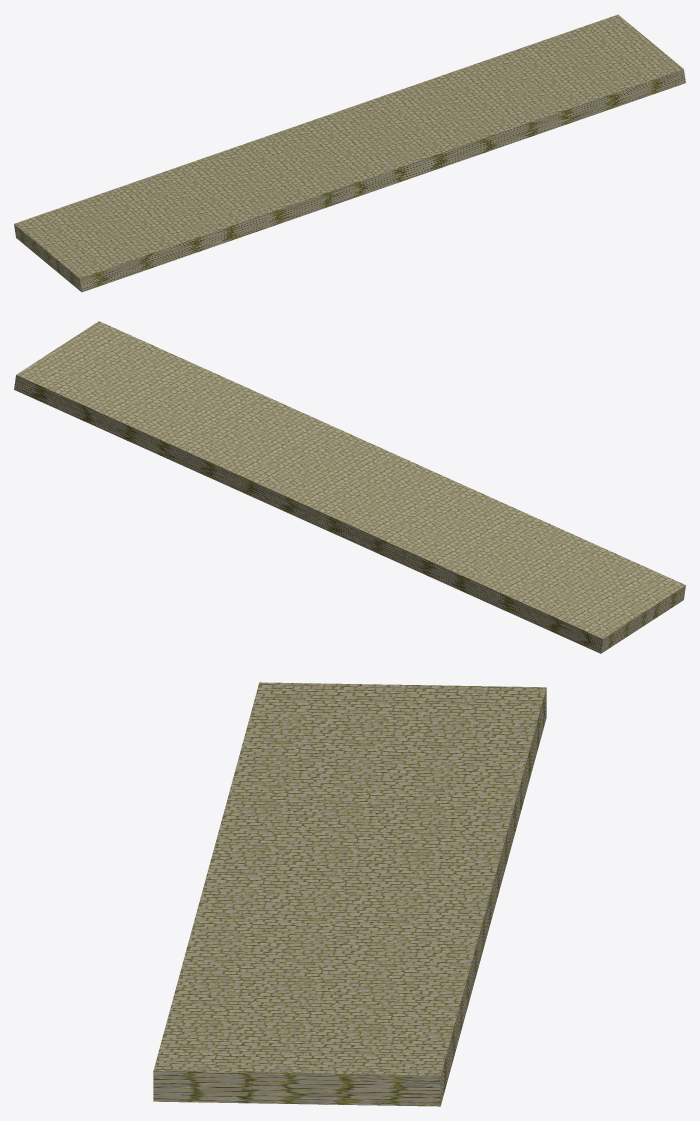
Rendered from Street_Straight_Long_Neighborhood.glb.
3 views of the same model, one above another, from view 1: azimuth 30°, elevation 25°; view 2: azimuth 150°, elevation 25°; view 3: azimuth 270°, elevation 25° (orthographic). The views are drawn at different scales.
Parts seen in each view (by area): view 1: Cube.003; view 2: Cube.003; view 3: Cube.003.
Part boxes in pixels (box(x1,y1,x2,y2)): Cube.003: box(14, 14, 685, 292); Cube.003: box(14, 321, 685, 653); Cube.003: box(153, 682, 546, 1106).
Bounding box in the file's own units: 37.65 × 6.32 × 10.95.
1 material, 1 textured.
